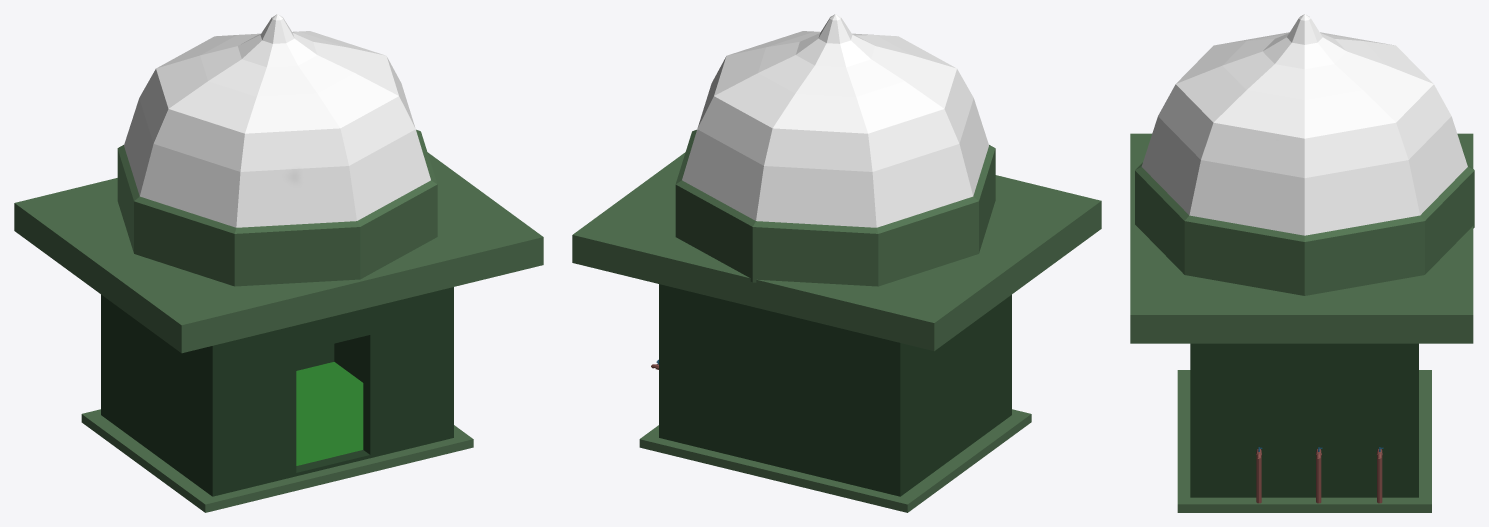
The model's file is 3D_musholla.fbx.
3 renders of one model, left to right at view 1: azimuth 30°, elevation 25°; view 2: azimuth 150°, elevation 25°; view 3: azimuth 270°, elevation 25°, orthographic. The views are drawn at different scales.
Parts seen in each view (by area): view 1: Plane; view 2: Plane; view 3: Plane.
Boxes of the visible parts, <box> form: Plane: <box>14,14,543,512</box>; Plane: <box>572,14,1101,512</box>; Plane: <box>1130,14,1474,512</box>.
Size of the model in its own units: 675 by 750 by 542.
1 material, 1 textured.
